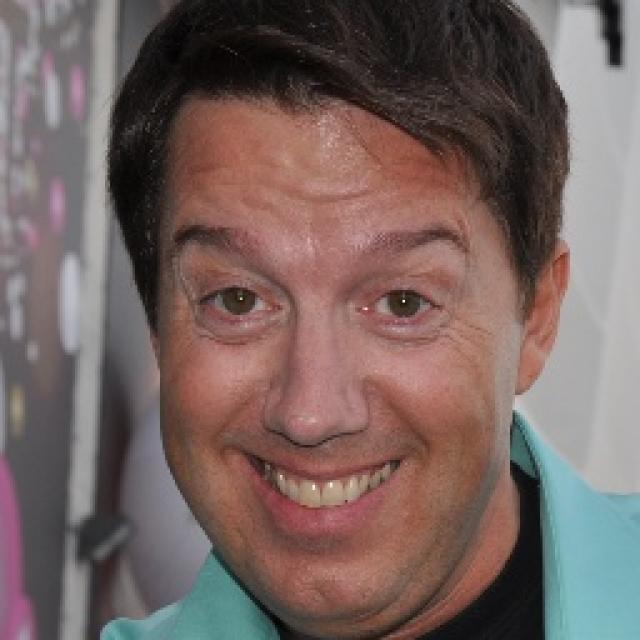earlobe: (515, 340, 548, 396)
eye: (194, 285, 281, 324), (362, 291, 438, 323)
nose: (267, 428, 376, 461)
wholeear: (515, 238, 570, 396)
